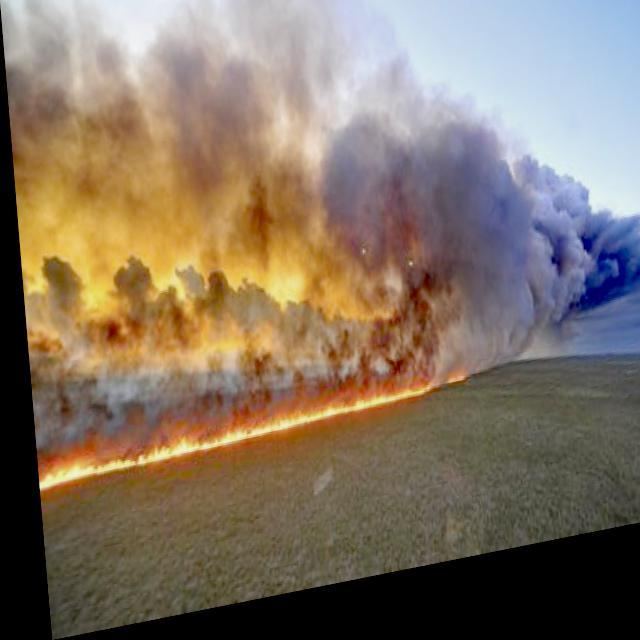Fire: (31, 371, 476, 490)
